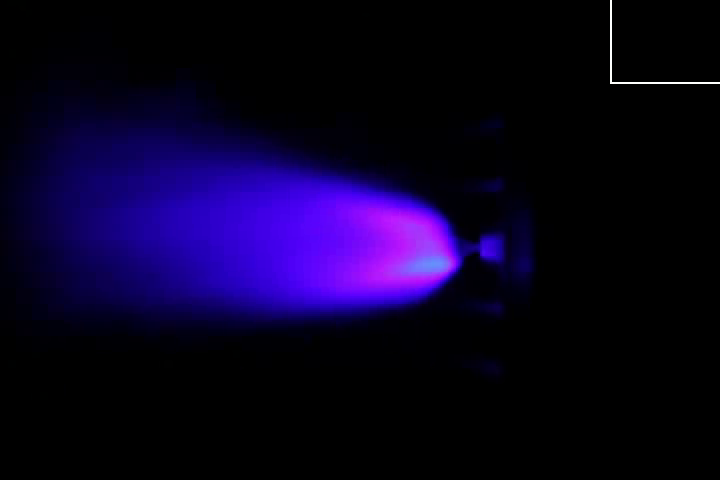burner cap: (473, 233, 504, 262)
unstable: (321, 179, 476, 307)
